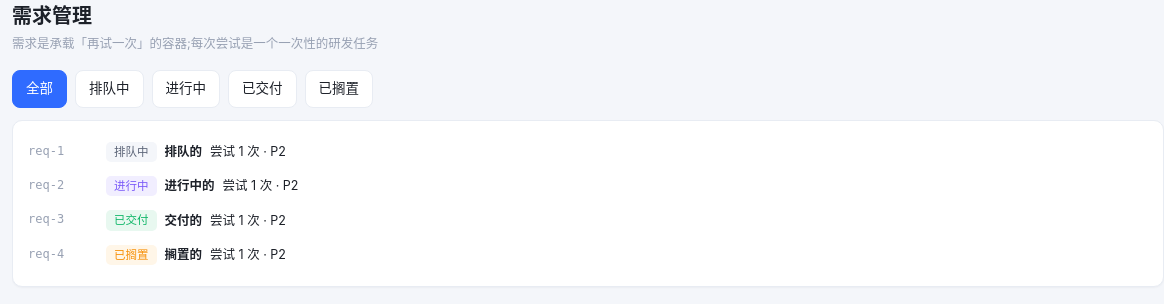
Scenario: Requirements › renders every state and filters by it
Expected: the text "排队的" is shown, [164,142,202,162]
Expected: the text "进行中的" is shown, [164,176,214,196]
Click the button "已交付" at [262, 89], box [228,70,296,108]
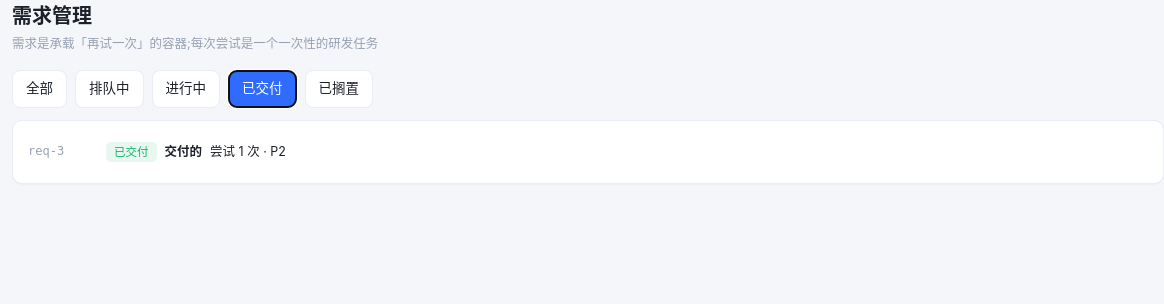
Expected: the text "交付的" is shown, [164,142,202,162]
Expected: the text "排队的" is gone
